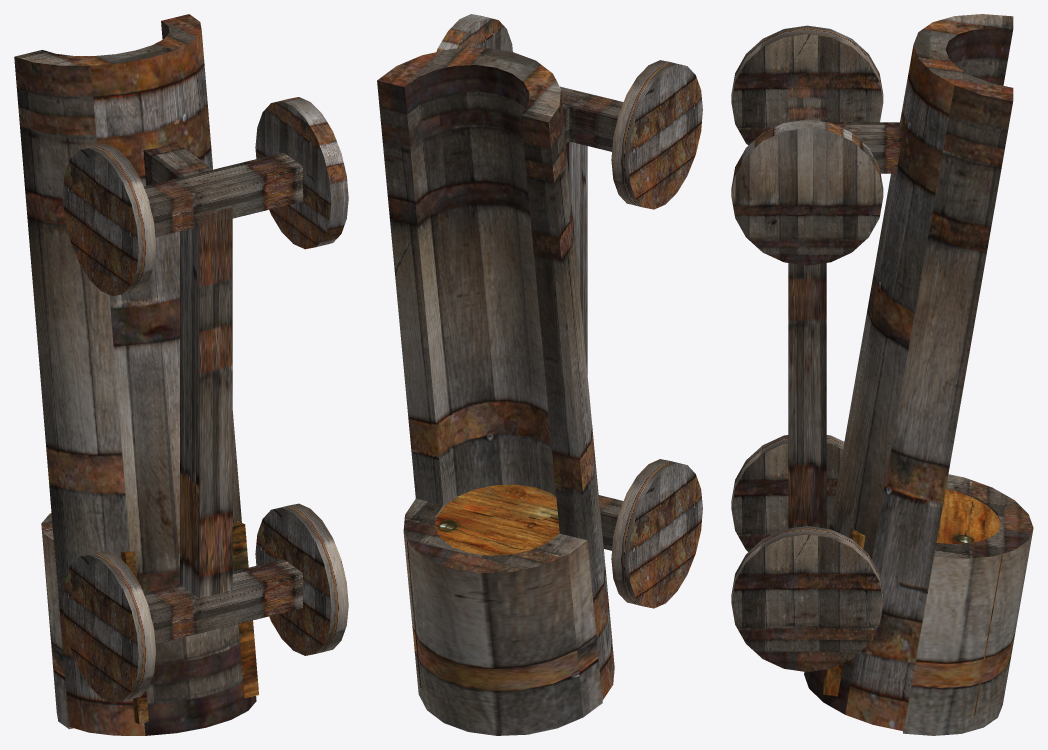
The model's file is TREBUCHET2.fbx.
3 views of the same model, side by side, from view 1: azimuth 30°, elevation 25°; view 2: azimuth 150°, elevation 25°; view 3: azimuth 270°, elevation 25° (orthographic).
Visible parts, largest first — view 1: polySurface1, pCube4, pCylinder4, pCylinder6, pCylinder5, pCylinder3, pCube3, pCube5, pCube6, polySurface2, pCube7; view 2: polySurface1, polySurface2, pCylinder4, pCylinder6, pCube6, pCube4, pCube3, pCylinder3, pCube5; view 3: polySurface1, polySurface2, pCylinder3, pCylinder5, pCylinder4, pCube4, pCylinder6, pCube6, pCube7, pCube3.
Boxes of the visible parts, x1,y1,x2,y2 form: polySurface1: (14,14,256,735); pCube4: (180,207,232,619); pCylinder4: (62,144,155,296); pCylinder6: (63,550,155,702); pCylinder5: (255,503,348,655); pCylinder3: (255,97,348,249); pCube3: (144,152,302,237); pCube5: (143,559,302,643); pCube6: (121,521,258,724); polySurface2: (41,513,73,729); pCube7: (143,142,212,185); polySurface1: (377,47,614,700); polySurface2: (403,498,602,735); pCylinder4: (611,60,702,209); pCylinder6: (611,459,702,608); pCube6: (406,484,612,687); pCube4: (566,141,587,373); pCube3: (560,86,623,151); pCylinder3: (436,14,512,51); pCube5: (599,495,623,550); polySurface1: (804,14,1013,730); polySurface2: (903,474,1033,735); pCylinder3: (731,119,883,265); pCylinder5: (731,526,883,672); pCylinder4: (731,25,883,145); pCube4: (788,263,826,528); pCylinder6: (731,435,844,551); pCube6: (823,489,1002,715); pCube7: (827,122,901,173); pCube3: (788,87,826,122).
Size of the model in its own units: 23.14 by 69.61 by 28.86.
2 materials, 2 textured.
